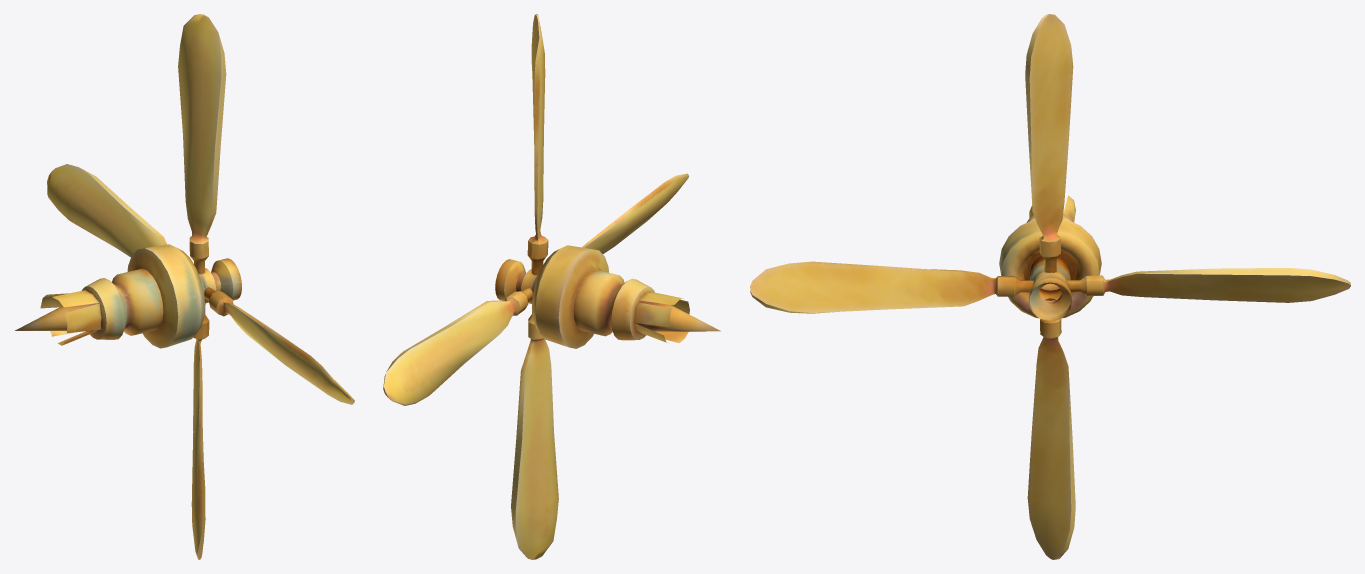
Rendered from Helix2.obj.
3 views of the same model, side by side, from view 1: azimuth 30°, elevation 25°; view 2: azimuth 150°, elevation 25°; view 3: azimuth 270°, elevation 25° (orthographic).
Parts seen in each view (by area): view 1: balloon.001; view 2: balloon.001; view 3: balloon.001.
Boxes of the visible parts, left/top/right/bottom form: balloon.001: left=15, top=14, right=354, bottom=559; balloon.001: left=383, top=14, right=720, bottom=559; balloon.001: left=750, top=14, right=1350, bottom=559.
Size of the model in its own units: 3.29 by 7.88 by 7.88.
